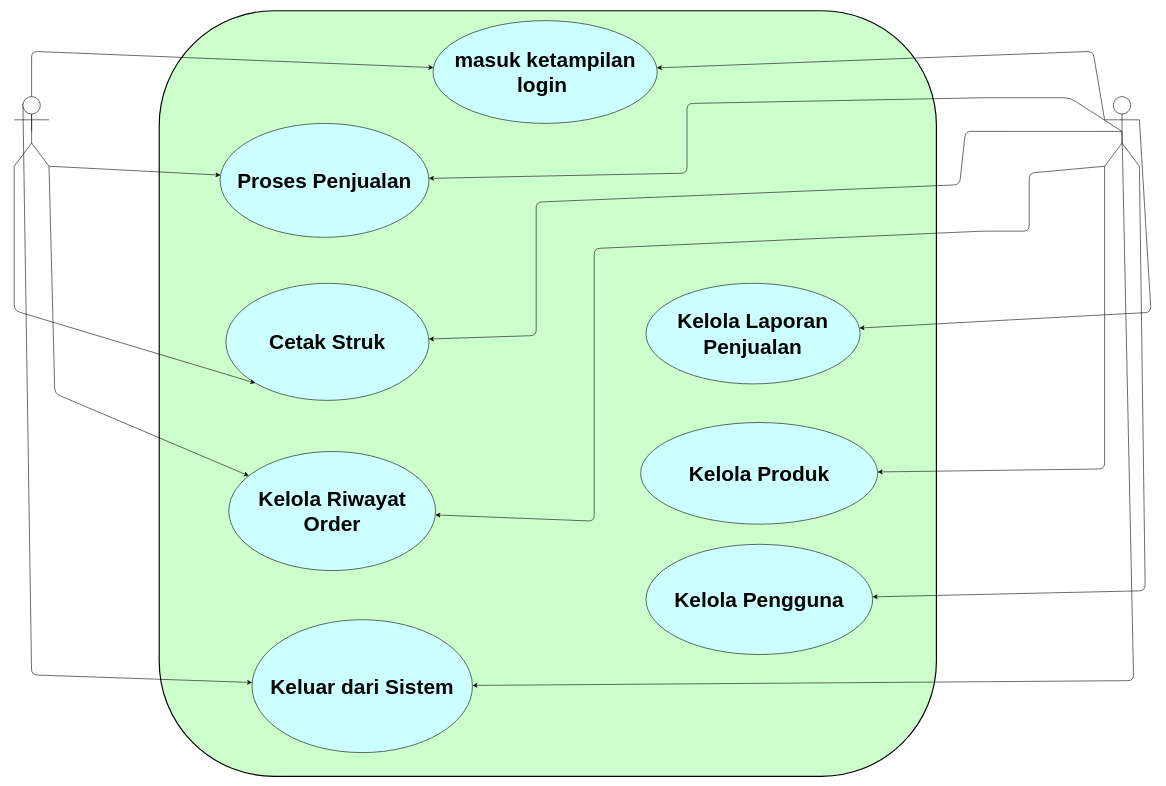
Image size: 1166x786. Some labels were removed from this diagram. Here are the shapes that lost their labels. From the top down, the box of each, then its label:
(14, 96, 49, 166): Kasir
(1104, 96, 1139, 166): Admin
